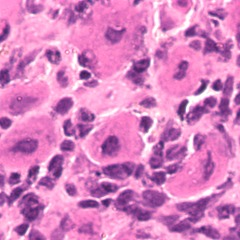New: (163, 128, 230, 199), (82, 110, 145, 163), (1, 114, 56, 168), (157, 43, 205, 96), (1, 80, 51, 116)
